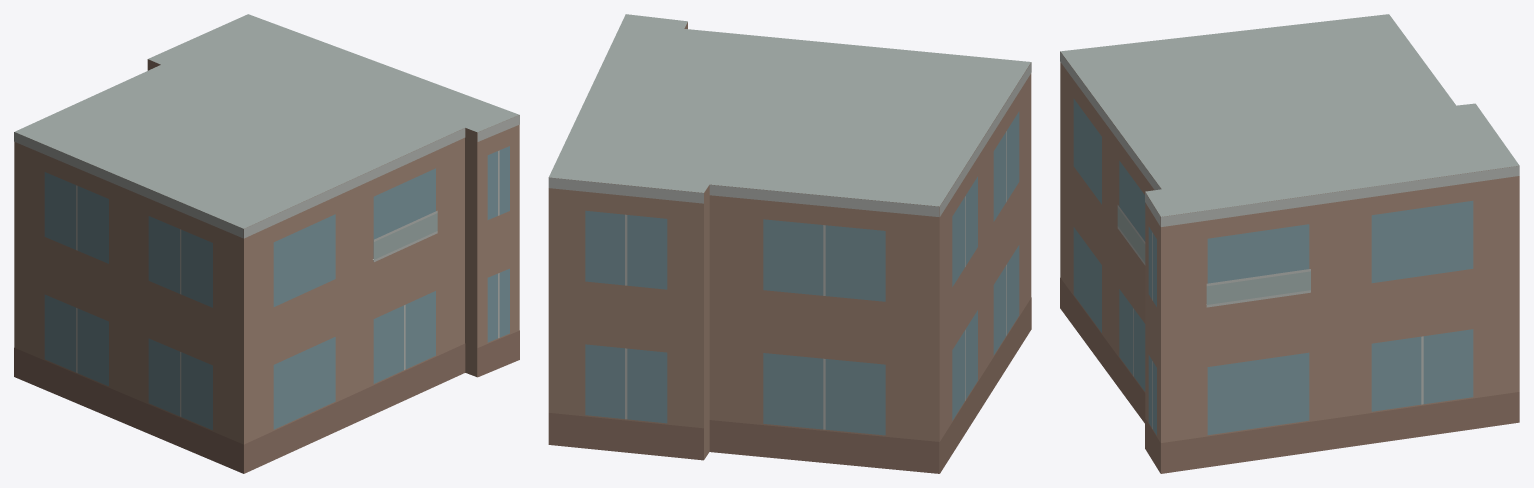
Rendered from survey-upis-32715511.glb.
3 renders of one model, left to right at view 1: azimuth 30°, elevation 25°; view 2: azimuth 150°, elevation 25°; view 3: azimuth 270°, elevation 25°, orthographic. The views are drawn at different scales.
Visible parts, largest first — view 1: survey-upis-32715511.tmp; view 2: survey-upis-32715511.tmp; view 3: survey-upis-32715511.tmp.
Part boxes in pixels (bbox=[...]): survey-upis-32715511.tmp: bbox=[14, 14, 519, 473]; survey-upis-32715511.tmp: bbox=[548, 14, 1031, 473]; survey-upis-32715511.tmp: bbox=[1060, 14, 1519, 473].
Bounding box in the file's own units: 10.34 × 6.1 × 9.9.
